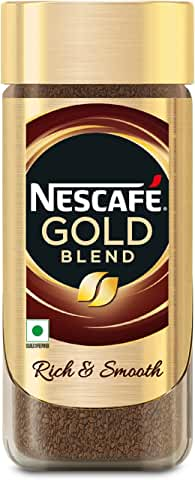veg: (27, 314, 52, 353)
